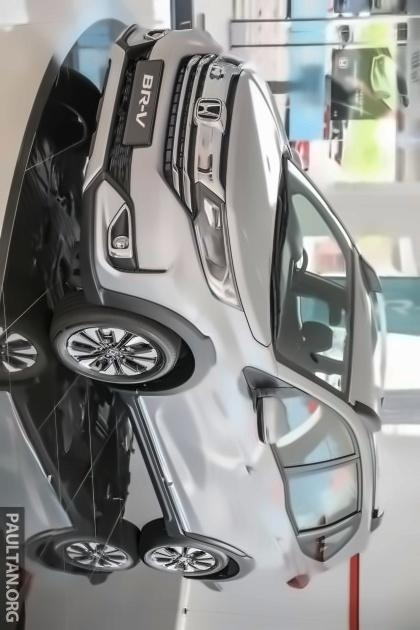Car hood: (223, 63, 285, 345)
Fender - -F-L-: (120, 297, 292, 433)
Fender - -R-L-: (185, 514, 349, 592)
Front bumper: (69, 17, 212, 339)
Headlight - -L-: (188, 179, 242, 313)
Headlight - -R-: (205, 49, 248, 84)
Passenger-s door - -F-L-: (111, 368, 381, 484)
Passenger-s door - -R-L-: (136, 450, 399, 543)
Side bumper - -L-: (101, 381, 213, 537)
Side mirror - -L-: (249, 378, 291, 447)
